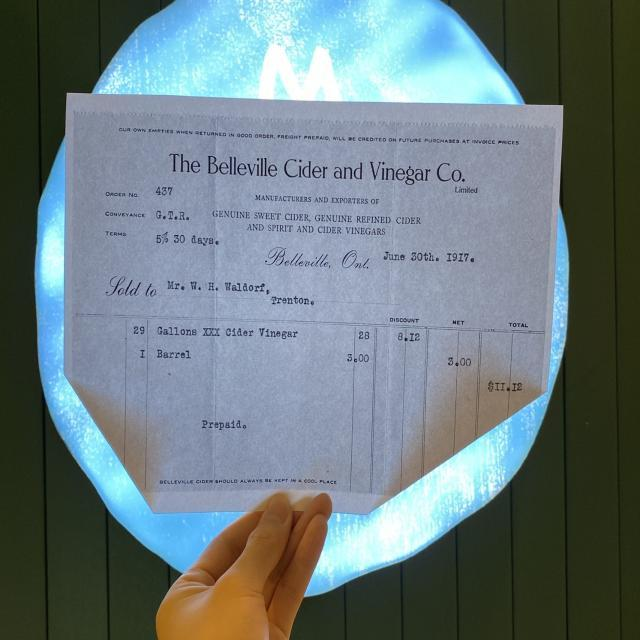document: (65, 94, 561, 512)
